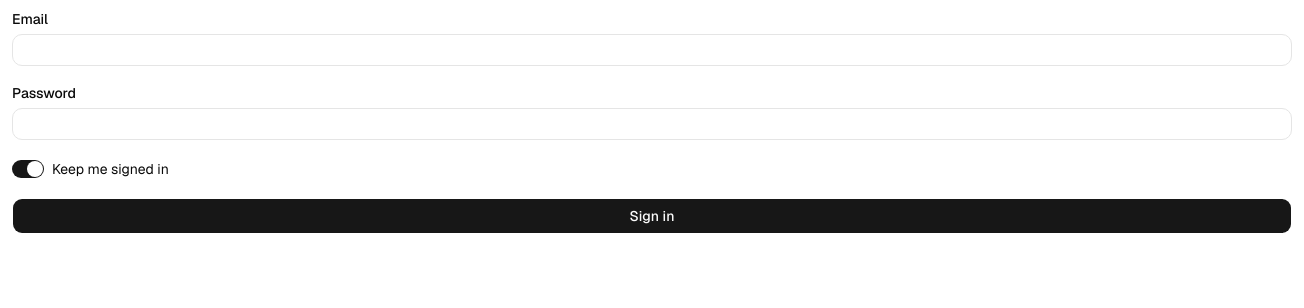
LoginForm › shows non-field errors such as throttling in an alert
Type "owner@example.test" into the field labelled "Email" at {"x": 652, "y": 50}, box [12, 34, 1292, 66]
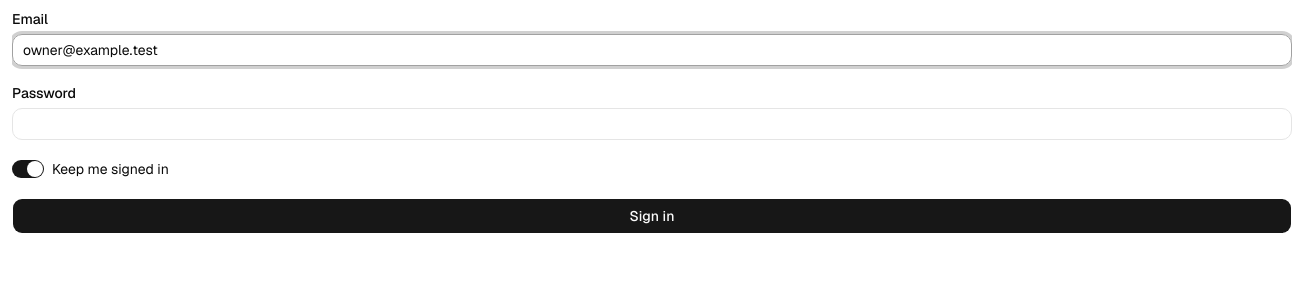
Type "wrong" into the password field labelled "Password" at {"x": 652, "y": 124}, box [12, 108, 1292, 140]
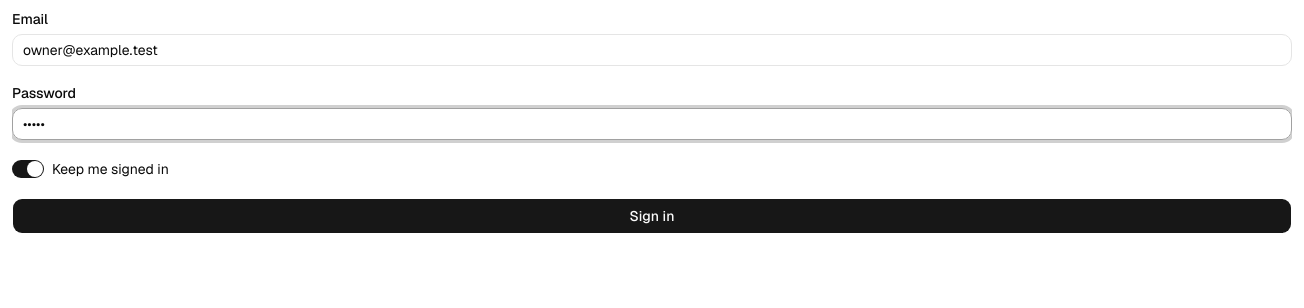
Click the button "Sign in" at {"x": 652, "y": 216}, box [12, 198, 1292, 234]
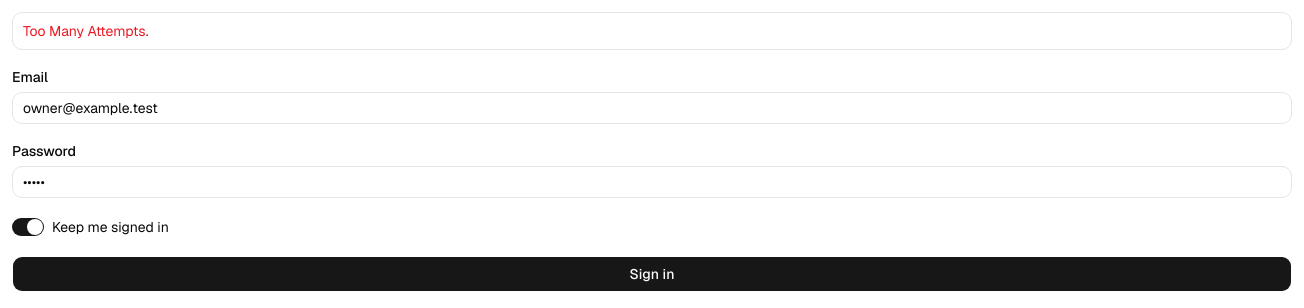
Expected: the message reads "Too Many Attempts.", [23, 22, 148, 40]
